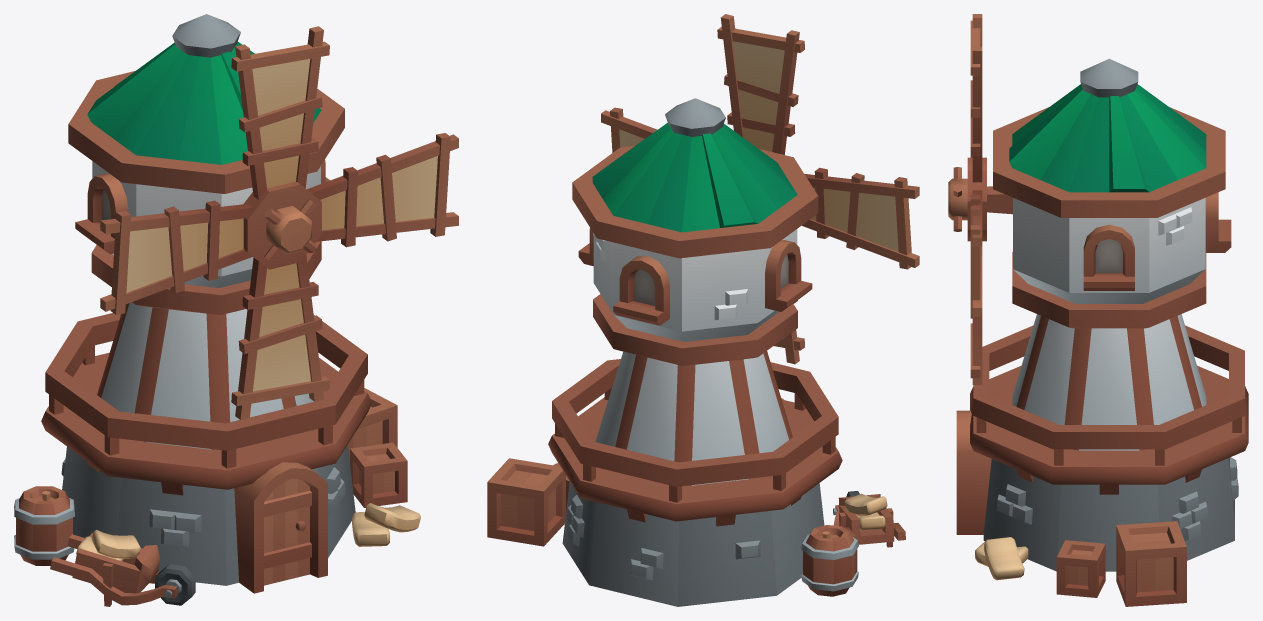
File: building_windmill_green.gltf
3 renders of one model, left to right at view 1: azimuth 30°, elevation 25°; view 2: azimuth 150°, elevation 25°; view 3: azimuth 270°, elevation 25°, orthographic. The views are drawn at different scales.
Visible parts, largest first — view 1: building_windmill_green, building_windmill_top_fan_green, building_windmill_top_green; view 2: building_windmill_green, building_windmill_top_green, building_windmill_top_fan_green; view 3: building_windmill_green, building_windmill_top_green, building_windmill_top_fan_green.
Part boxes in pixels (x1,y1,x2,y2): building_windmill_green: (14, 302, 420, 606); building_windmill_top_fan_green: (100, 26, 458, 419); building_windmill_top_green: (68, 14, 344, 314); building_windmill_green: (487, 351, 905, 606); building_windmill_top_green: (572, 98, 818, 365); building_windmill_top_fan_green: (601, 14, 919, 364); building_windmill_green: (956, 314, 1248, 606); building_windmill_top_green: (987, 58, 1231, 328); building_windmill_top_fan_green: (948, 14, 986, 384).
Bounding box in the file's own units: 1.13 × 1.46 × 0.8165.
1 material, 1 textured.
